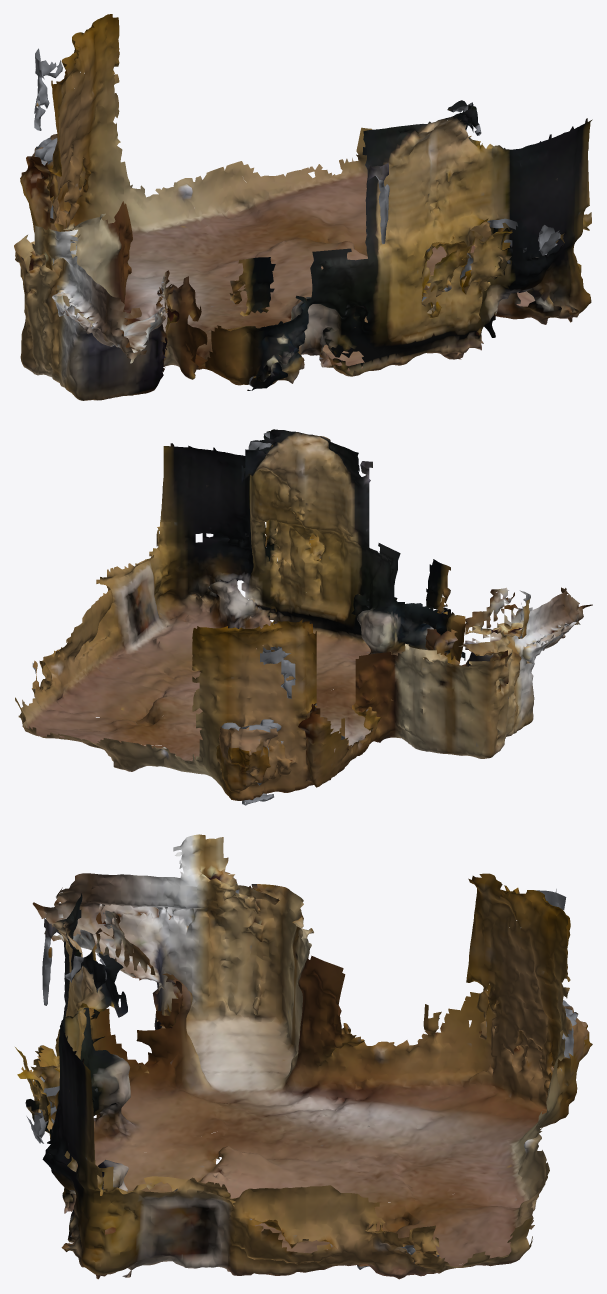
Rendered from 20230327_214121_Converted.fbx.
The picture shows the model from 3 angles, top to bottom: view 1: azimuth 30°, elevation 25°; view 2: azimuth 150°, elevation 25°; view 3: azimuth 270°, elevation 25°; orthographic projection. The views are drawn at different scales.
Visible parts, largest first — view 1: 20230327_214121; view 2: 20230327_214121; view 3: 20230327_214121.
Boxes of the visible parts, left/top/right/bottom form: 20230327_214121: left=14, top=14, right=592, bottom=400; 20230327_214121: left=15, top=429, right=592, bottom=805; 20230327_214121: left=15, top=834, right=592, bottom=1279.
Bounding box in the file's own units: 559 × 289 × 496.
